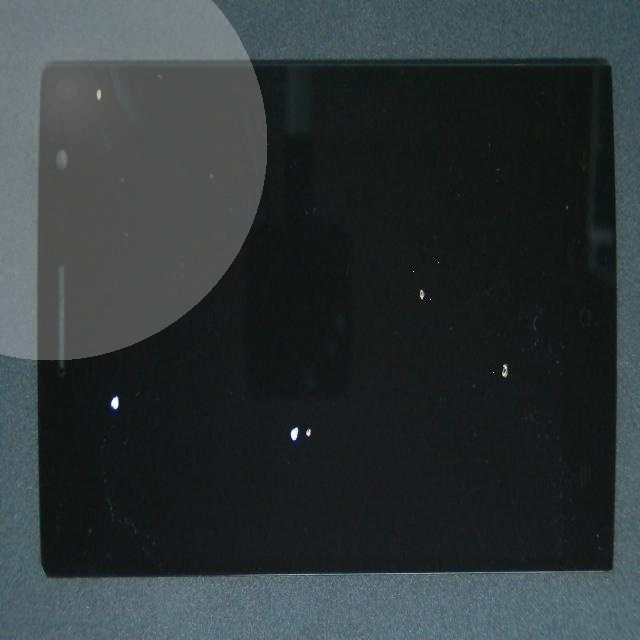stain: (240, 203, 640, 609), (206, 171, 617, 514), (134, 230, 426, 640), (41, 161, 148, 603), (41, 62, 125, 186)
